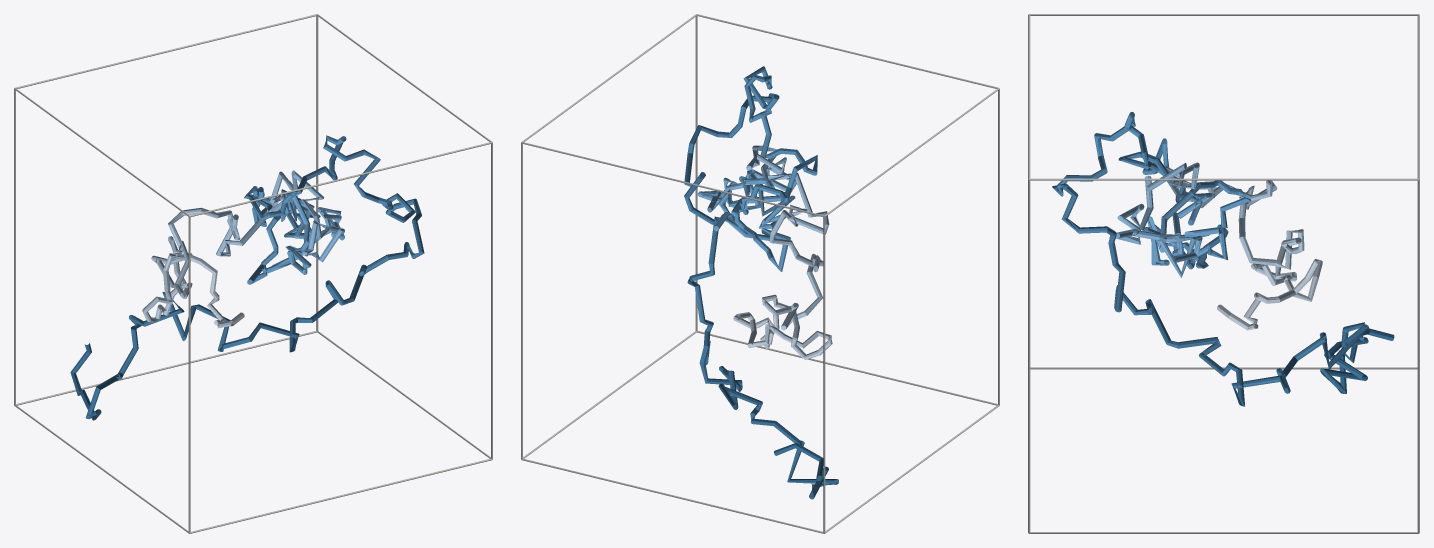
The picture shows the model from 3 angles, left to right: view 1: azimuth 30°, elevation 25°; view 2: azimuth 150°, elevation 25°; view 3: azimuth 270°, elevation 25°; orthographic projection. The views are drawn at different scales.
Parts seen in each view (by area): view 1: geometry_0, geometry_1; view 2: geometry_0, geometry_1; view 3: geometry_0, geometry_1.
Part boxes in pixels (x1,y1,x2,y2): geometry_0: (70, 135, 424, 420); geometry_1: (14, 14, 492, 533); geometry_0: (684, 66, 838, 499); geometry_1: (521, 14, 999, 533); geometry_0: (1052, 112, 1394, 406); geometry_1: (1028, 14, 1419, 533).
Bounding box in the file's own units: 0.3016 × 0.3037 × 0.3016.
